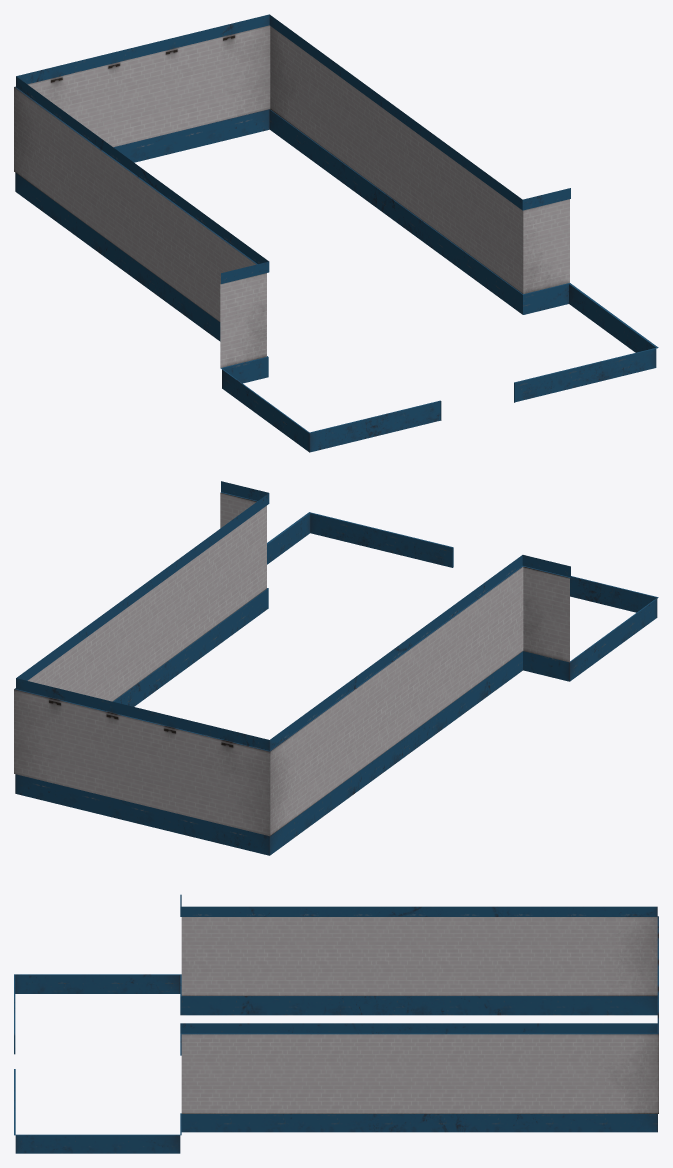
The model's file is SR_Wall.fbx.
3 views of the same model, one above another, from view 1: azimuth 30°, elevation 25°; view 2: azimuth 150°, elevation 25°; view 3: azimuth 270°, elevation 25° (orthographic). The views are drawn at different scales.
Parts seen in each view (by area): view 1: SR_Wall; view 2: SR_Wall; view 3: SR_Wall.
Boxes of the visible parts, x1,y1,x2,y2 form: SR_Wall: [14, 14, 658, 452]; SR_Wall: [14, 481, 658, 855]; SR_Wall: [14, 894, 658, 1153].
Size of the model in its own units: 1051 by 332 by 1780.
